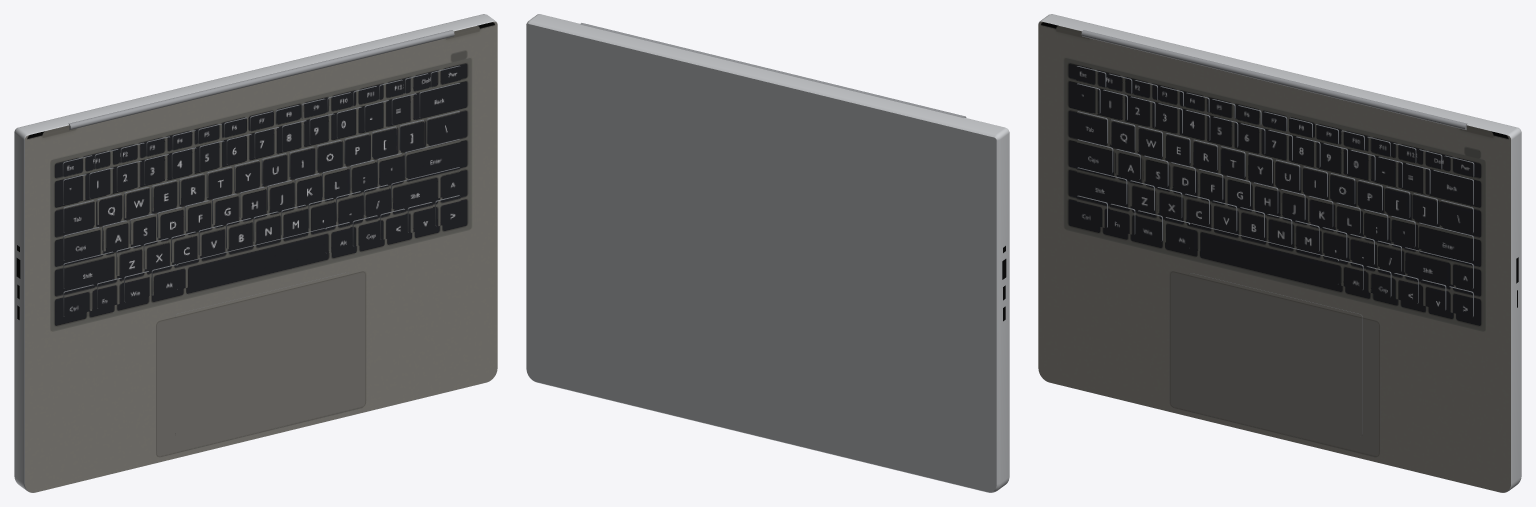
Rendered from body.obj.
The picture shows the model from 3 angles, left to right: view 1: azimuth 30°, elevation 25°; view 2: azimuth 150°, elevation 25°; view 3: azimuth 330°, elevation 25°; orthographic projection.
Visible parts, largest first — view 1: deck, keys.001, base, keys, hinge; view 2: base.001, base, hinge; view 3: deck, keys.001, base, keys, hinge.
Part boxes in pixels (x1,y1,x2,y2): deck: (25, 21, 497, 492); keys.001: (63, 66, 460, 317); base: (14, 14, 497, 492); keys: (62, 65, 460, 316); hinge: (68, 30, 454, 129); base.001: (526, 24, 996, 492); base: (526, 14, 1009, 492); hinge: (580, 23, 966, 117); deck: (1038, 21, 1510, 492); keys.001: (1076, 66, 1473, 317); base: (1038, 14, 1521, 492); keys: (1076, 66, 1474, 316); hinge: (1081, 30, 1467, 129).
Bounding box in the file's own units: 329 × 240 × 15.64.
